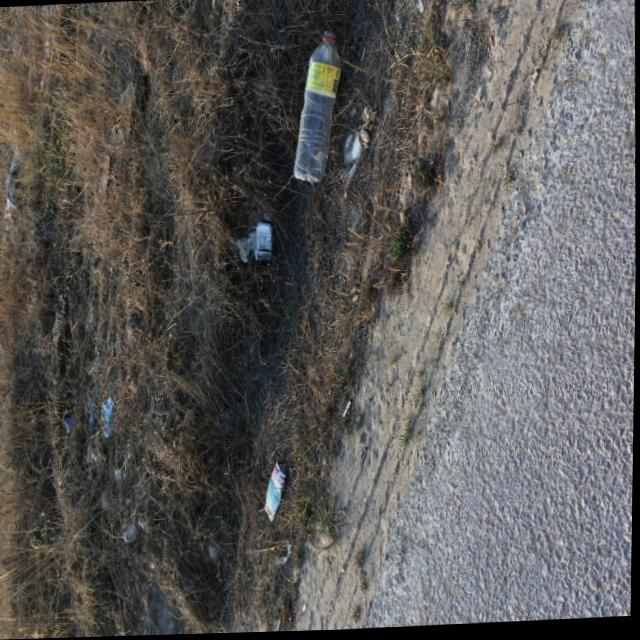Cardboard: (262, 453, 292, 527), (98, 378, 122, 445), (252, 215, 279, 266)
Plastic: (287, 16, 346, 191), (336, 107, 371, 199), (86, 387, 102, 437), (123, 515, 144, 547), (60, 400, 78, 436)
